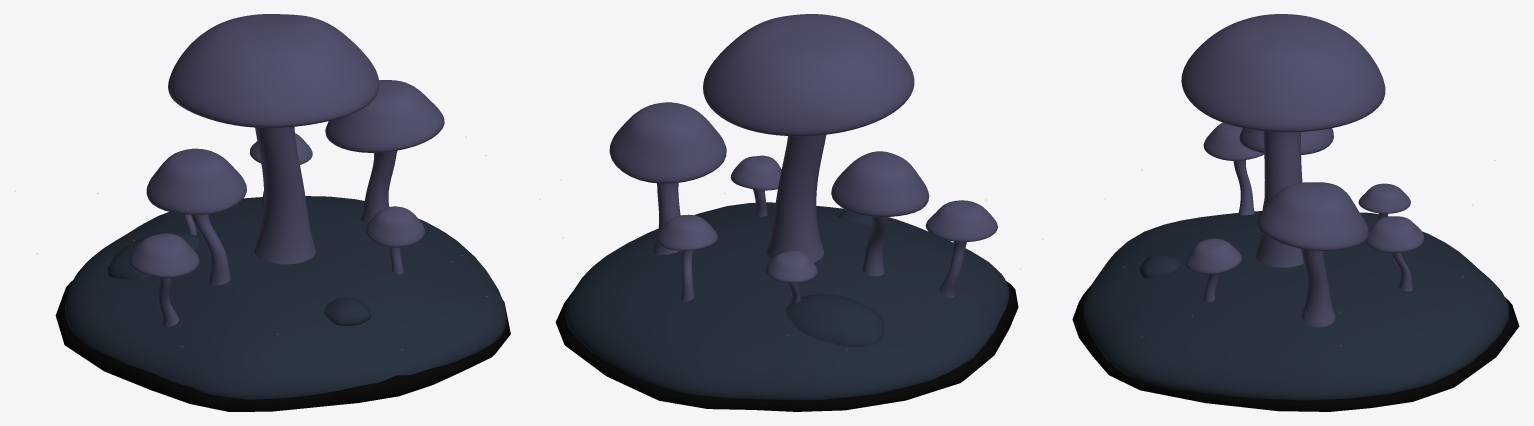
The model's file is mushrooms.gltf.
The picture shows the model from 3 angles, left to right: view 1: azimuth 30°, elevation 25°; view 2: azimuth 150°, elevation 25°; view 3: azimuth 270°, elevation 25°; orthographic projection. The views are drawn at different scales.
Visible parts, largest first — view 1: Sphere, Cylinder, Subdiv 9, Subdiv, Subdiv 8, Subdiv 3, Subdiv 5, Subdiv 7, Subdiv 6, Subdiv 4; view 2: Sphere, Cylinder, Subdiv, Subdiv 9, Subdiv 8, Subdiv 7, Subdiv 3, Subdiv 4, Subdiv 5, Subdiv 2; view 3: Sphere, Cylinder, Subdiv, Subdiv 9, Subdiv 4, Subdiv 3, Subdiv 5, Subdiv 2, Subdiv 8, Subdiv 6.
Part boxes in pixels (bbox=[...]): Sphere: bbox=[65, 196, 506, 399]; Cylinder: bbox=[168, 14, 379, 264]; Subdiv 9: bbox=[55, 280, 510, 411]; Subdiv: bbox=[325, 80, 444, 223]; Subdiv 8: bbox=[146, 148, 246, 285]; Subdiv 3: bbox=[129, 233, 199, 326]; Subdiv 5: bbox=[366, 206, 424, 274]; Subdiv 7: bbox=[108, 230, 199, 279]; Subdiv 6: bbox=[324, 297, 370, 325]; Subdiv 4: bbox=[250, 133, 312, 206]; Sphere: bbox=[565, 202, 1009, 399]; Cylinder: bbox=[703, 14, 914, 262]; Subdiv: bbox=[609, 102, 726, 255]; Subdiv 9: bbox=[555, 281, 1018, 411]; Subdiv 8: bbox=[831, 151, 929, 276]; Subdiv 7: bbox=[785, 293, 884, 346]; Subdiv 3: bbox=[925, 200, 997, 297]; Subdiv 4: bbox=[656, 214, 717, 301]; Subdiv 5: bbox=[730, 155, 781, 216]; Subdiv 2: bbox=[766, 250, 817, 303]; Sphere: bbox=[1083, 211, 1508, 400]; Cylinder: bbox=[1181, 14, 1385, 267]; Subdiv: bbox=[1257, 182, 1368, 327]; Subdiv 9: bbox=[1072, 284, 1519, 411]; Subdiv 4: bbox=[1365, 216, 1424, 291]; Subdiv 3: bbox=[1203, 122, 1264, 215]; Subdiv 5: bbox=[1185, 238, 1242, 302]; Subdiv 2: bbox=[1358, 183, 1410, 220]; Subdiv 8: bbox=[1239, 128, 1333, 209]; Subdiv 6: bbox=[1139, 255, 1180, 278].
Size of the model in its own units: 20.59 by 12.57 by 17.58.
